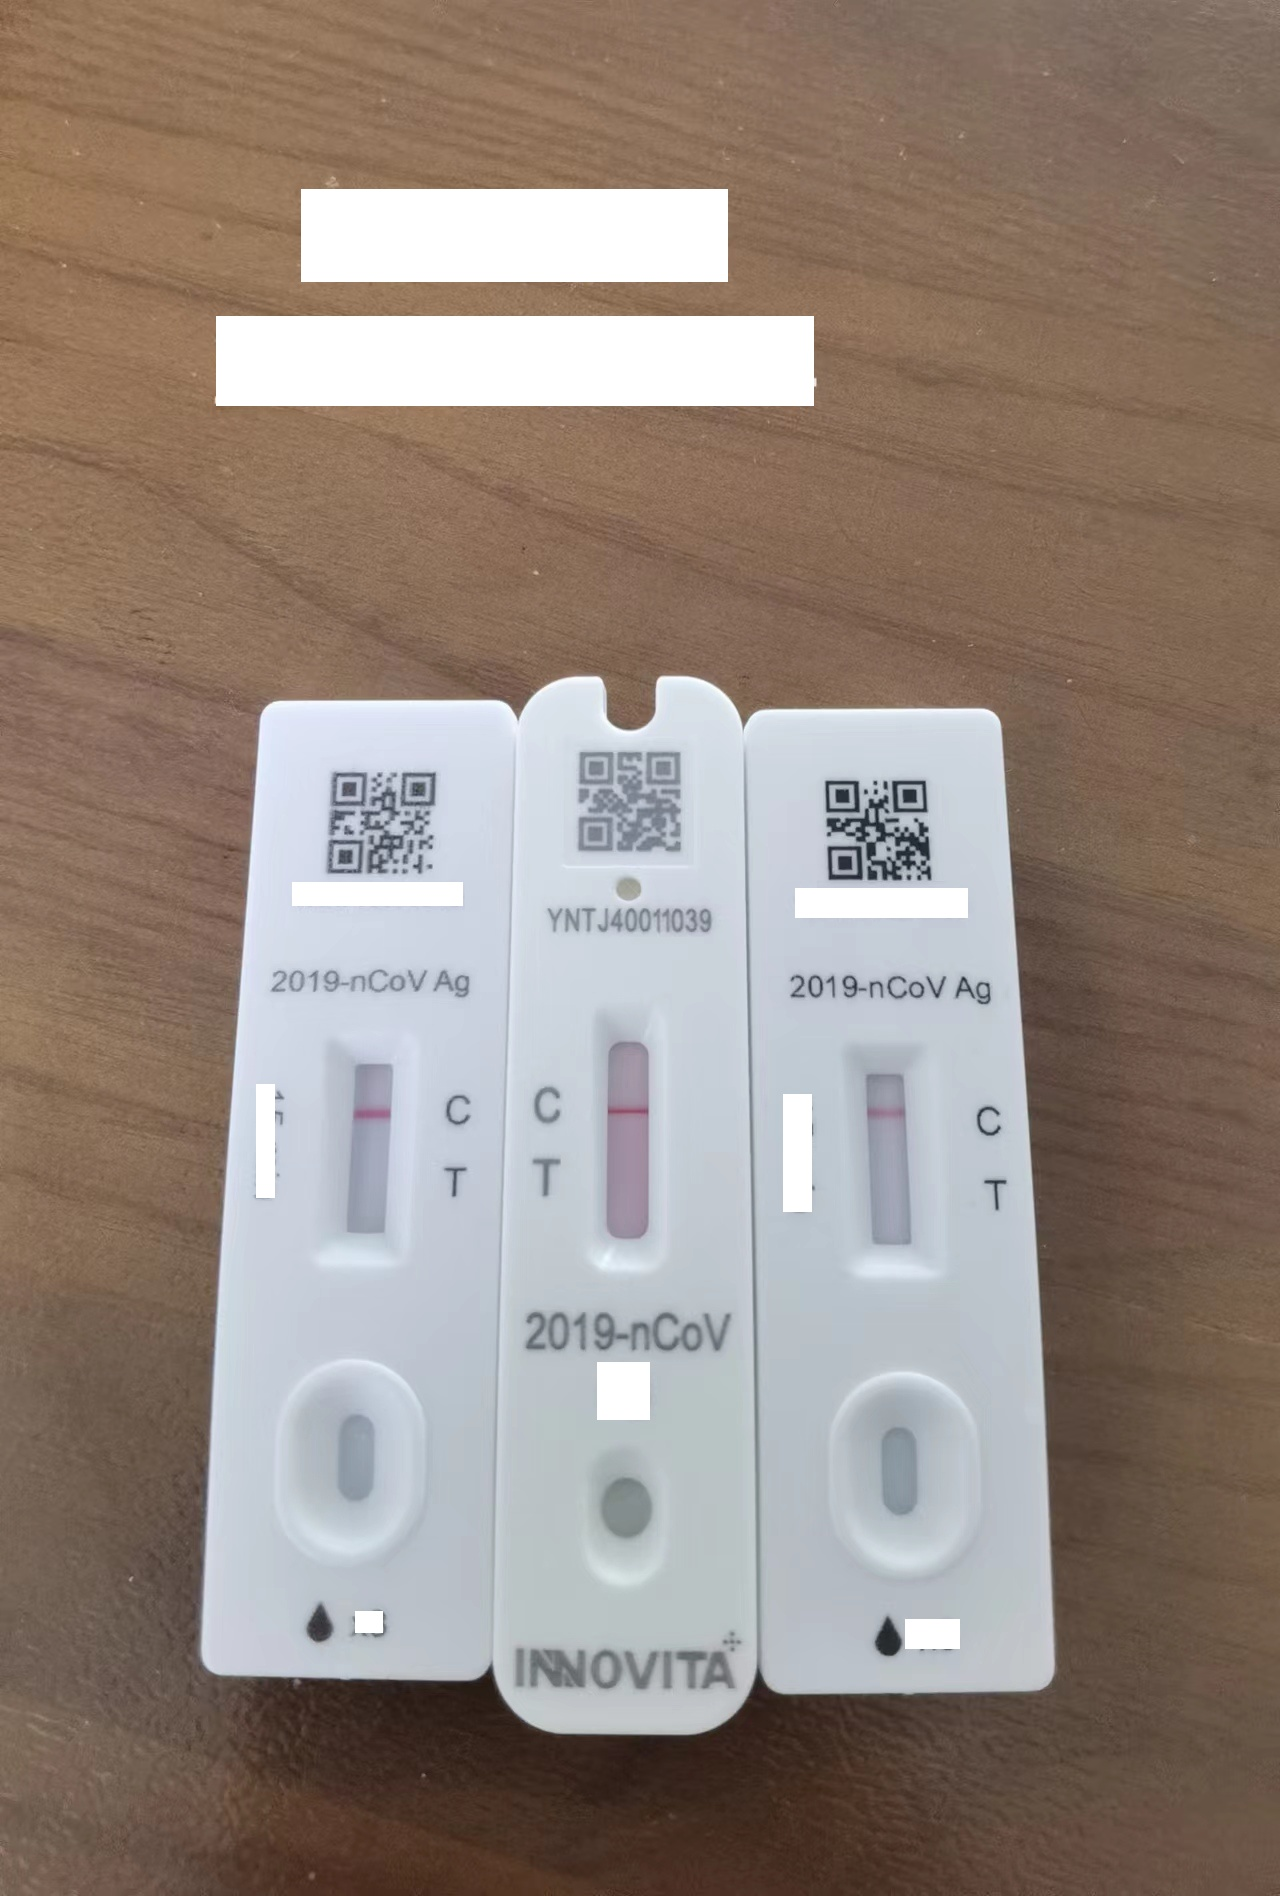negative: (589, 1002, 674, 1262), (326, 1032, 411, 1264), (847, 1042, 934, 1269)
positive: (590, 1004, 671, 1264)
